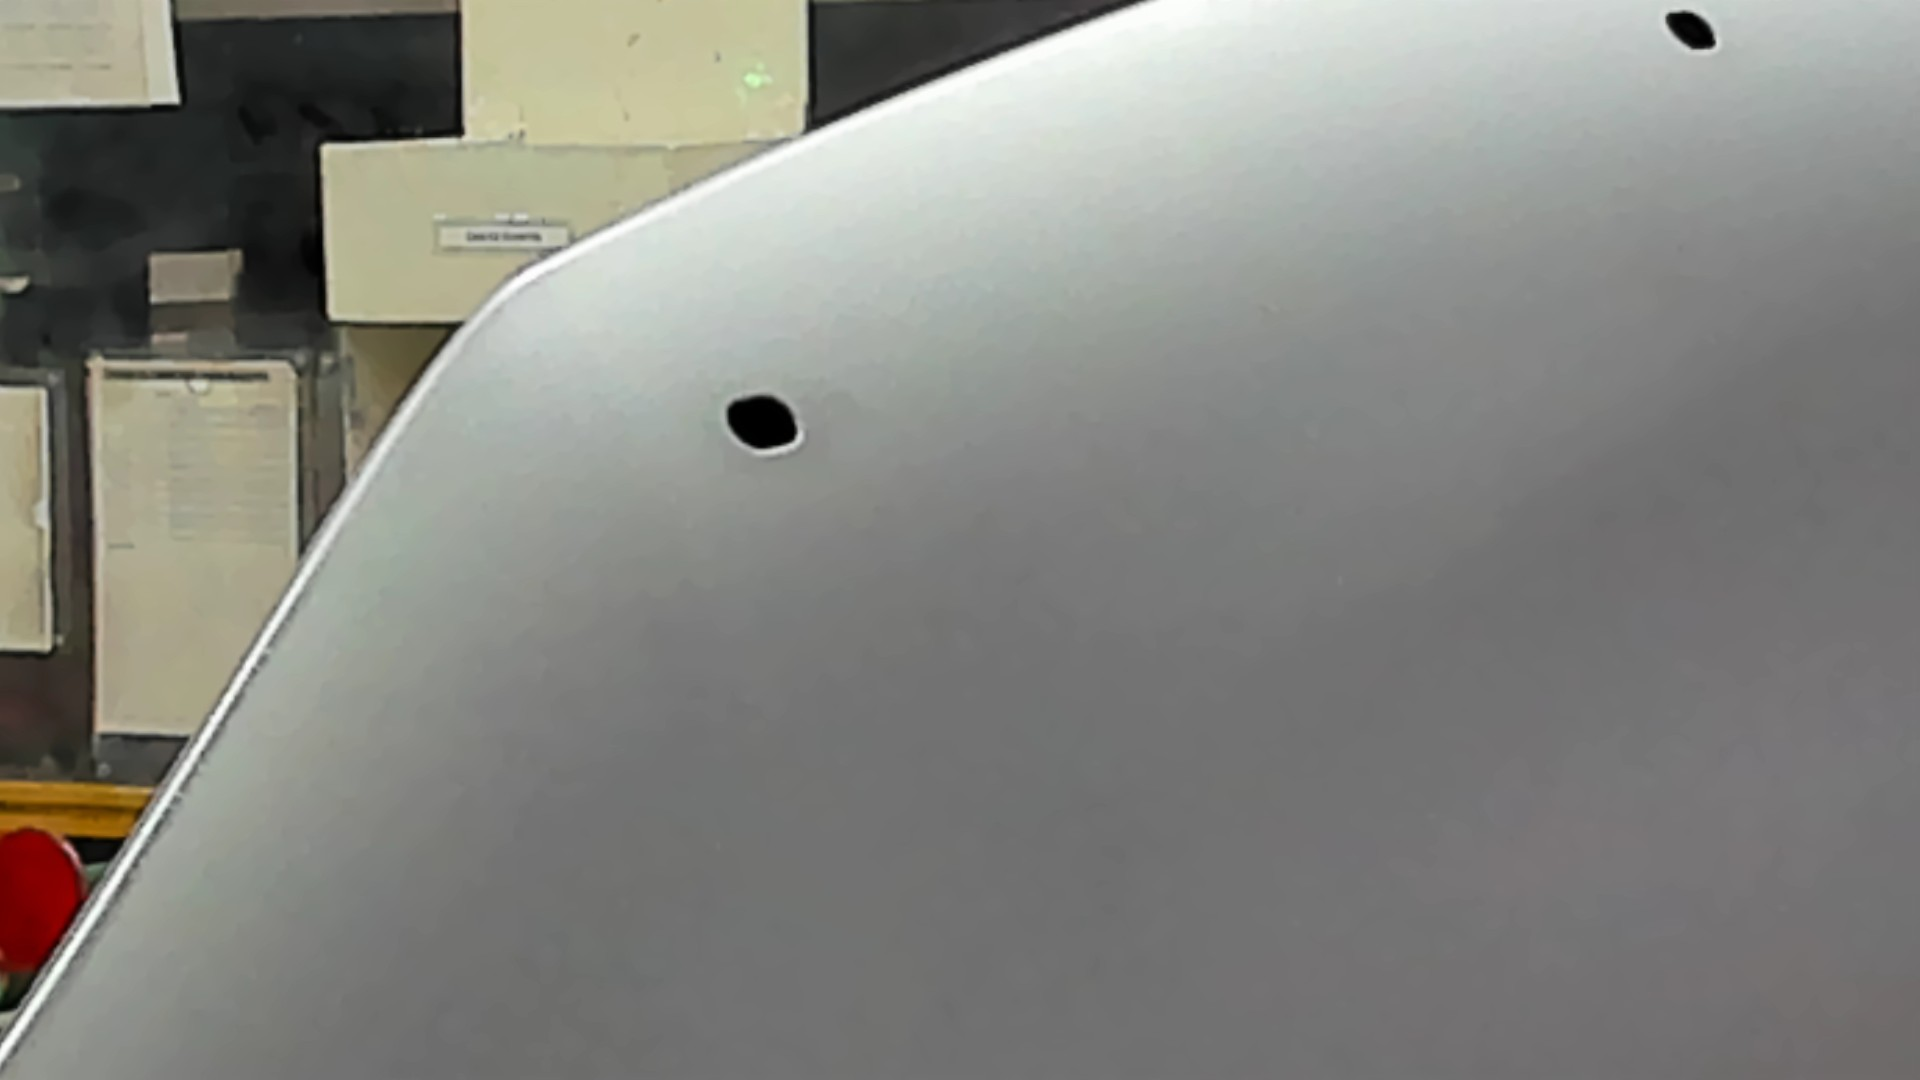chico: (713, 382, 814, 468), (1656, 3, 1727, 61)
